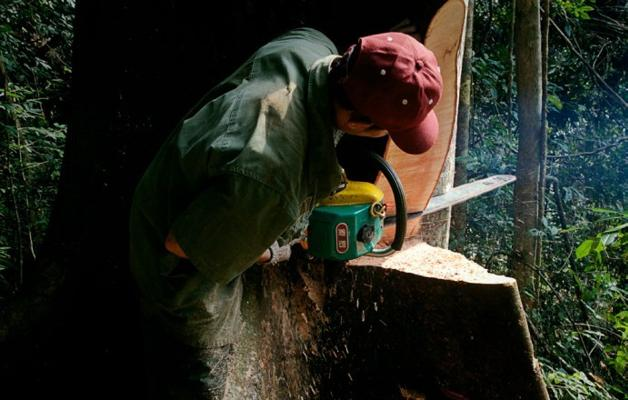person: (145, 26, 441, 400)
